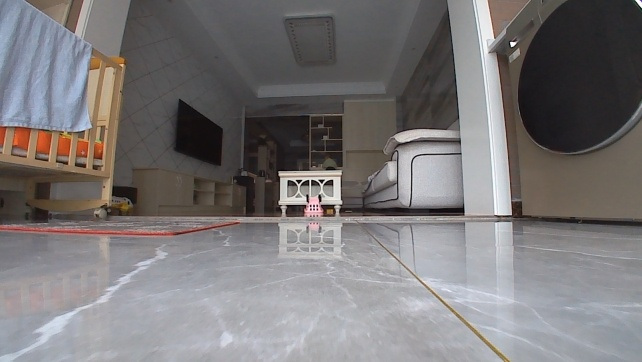TV_stand: (129, 164, 249, 218)
blanket: (0, 215, 241, 238)
sofa: (345, 118, 468, 212)
tea_table1: (275, 168, 345, 215)
washing_machine: (503, 0, 641, 224)
